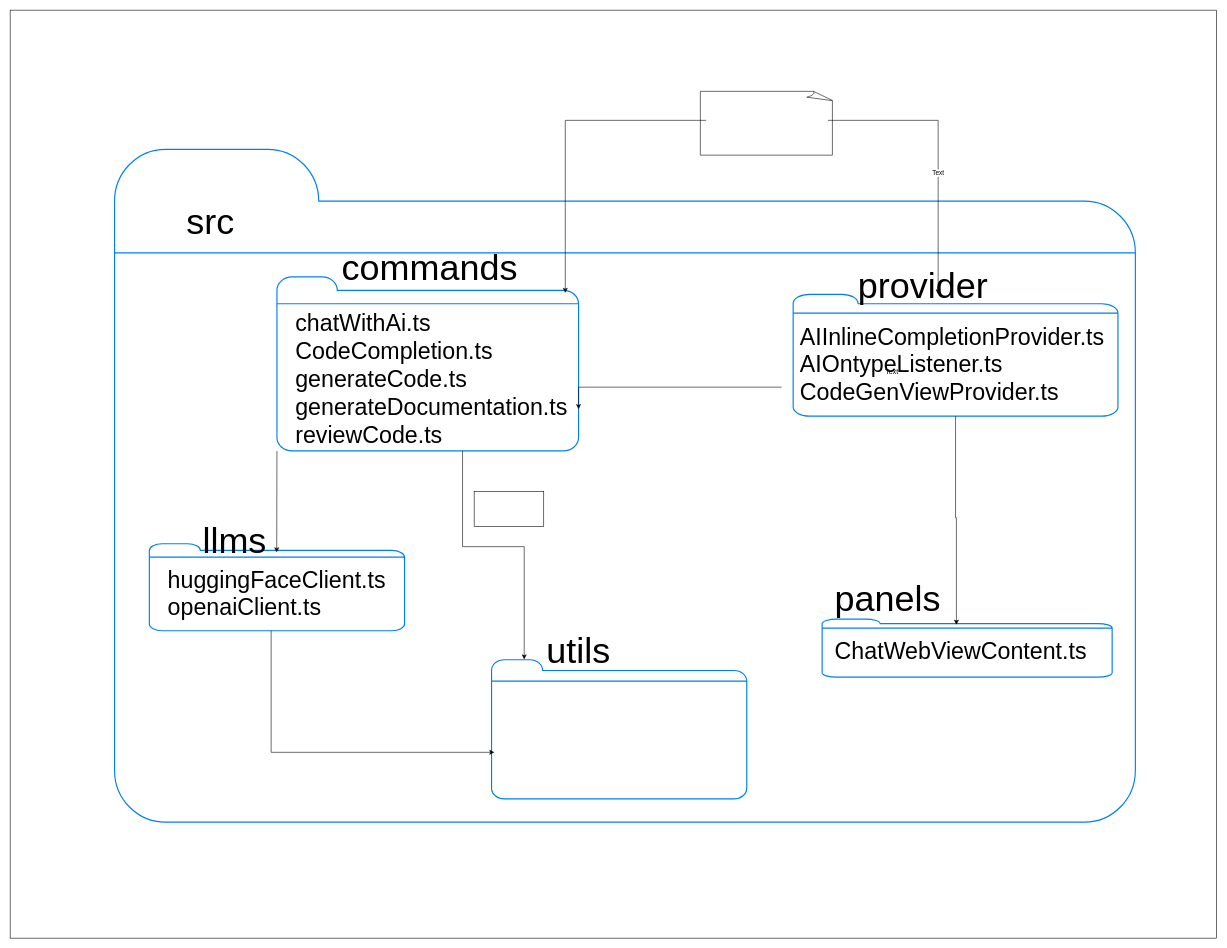
Image size: 1227x948. Some labels were removed from this diagram. The shapes that lost their labels are listed below. From the top down, each one's box as (x1, y1, x2, y2) in pixels, then its label:
(700, 91, 834, 155): extension.ts Point d'entree
(491, 659, 747, 799): context.ts langageUtilis.ts setApiKey.ts settings.ts
